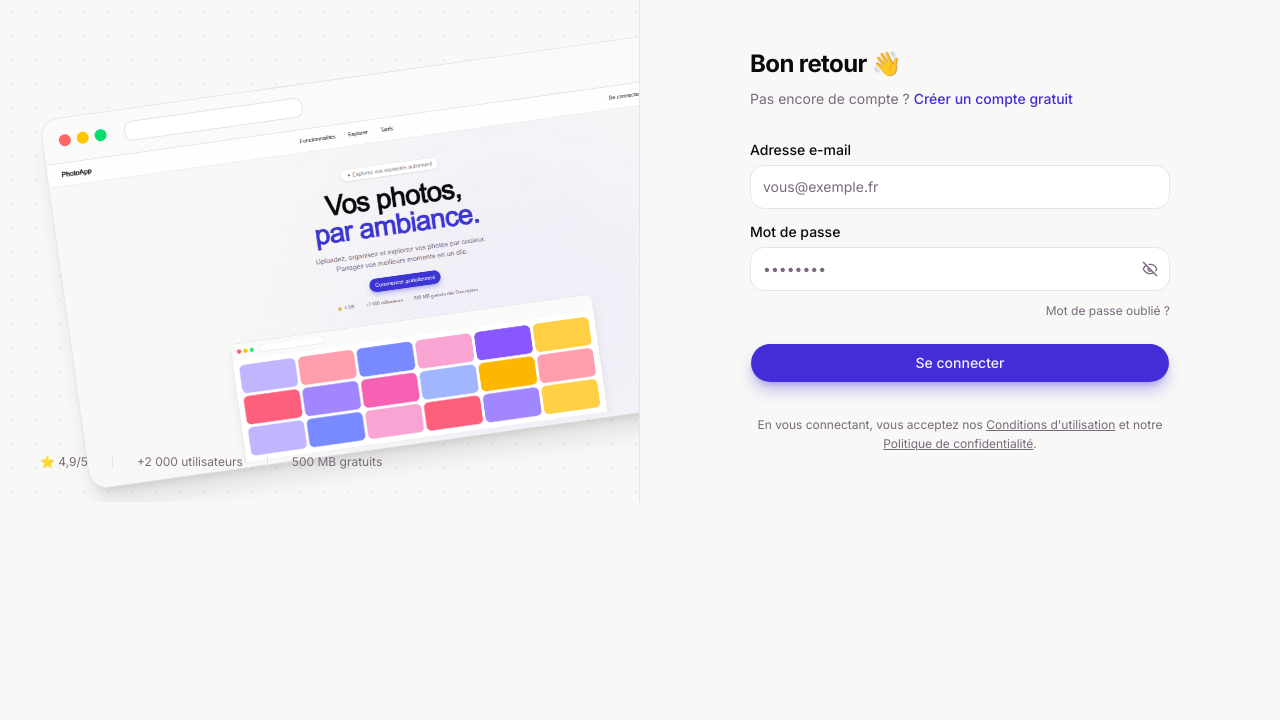
Test: LoginPage › affiche une erreur Zod pour un email invalide
Type "pas-un-email" into the field labelled "Adresse e-mail" at (960, 187), box 750,165 -> 1170,209
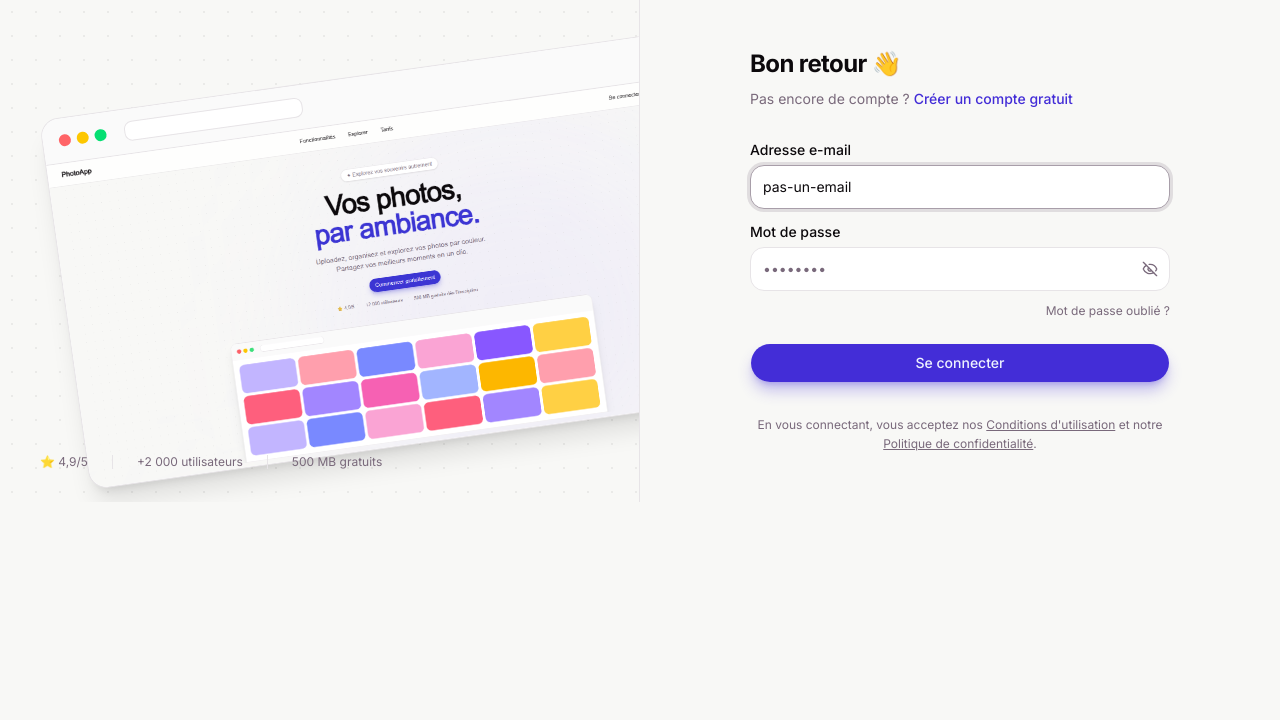
Type "Password123!" into the password field labelled "Mot de passe" at (960, 269), box 750,247 -> 1170,291
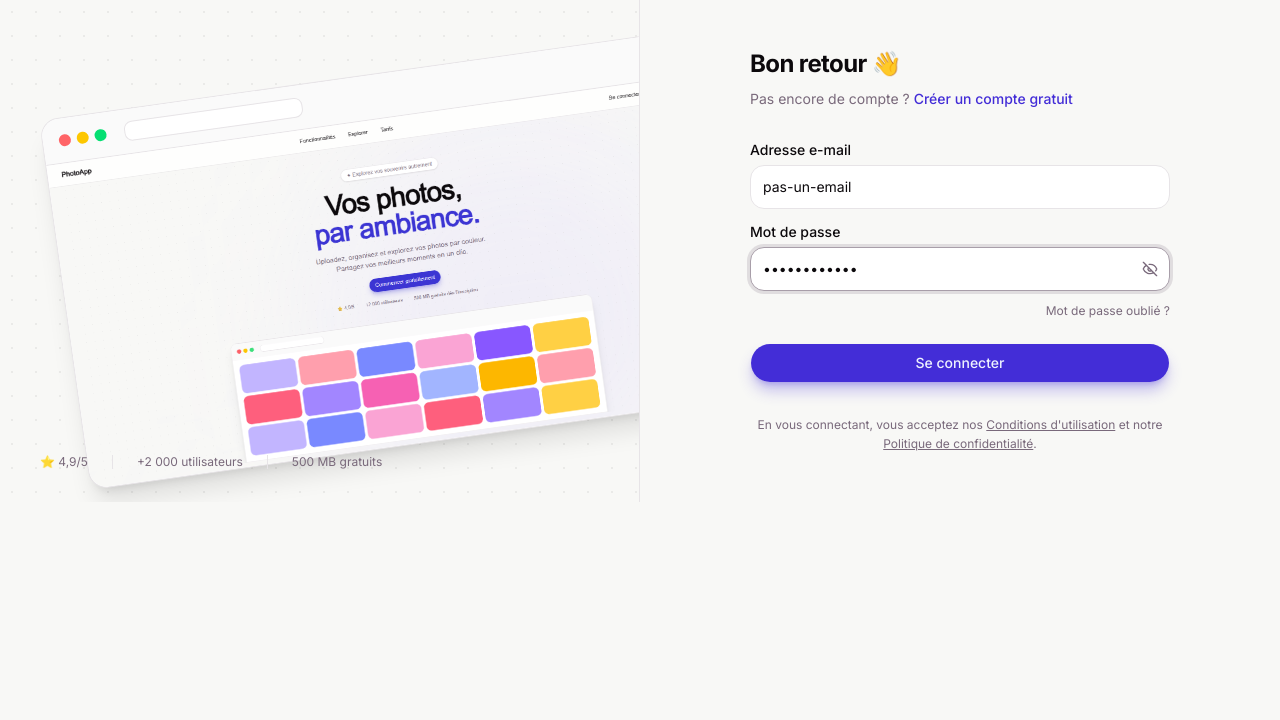
Click the button "Se connecter" at (960, 363), box 750,343 -> 1170,383
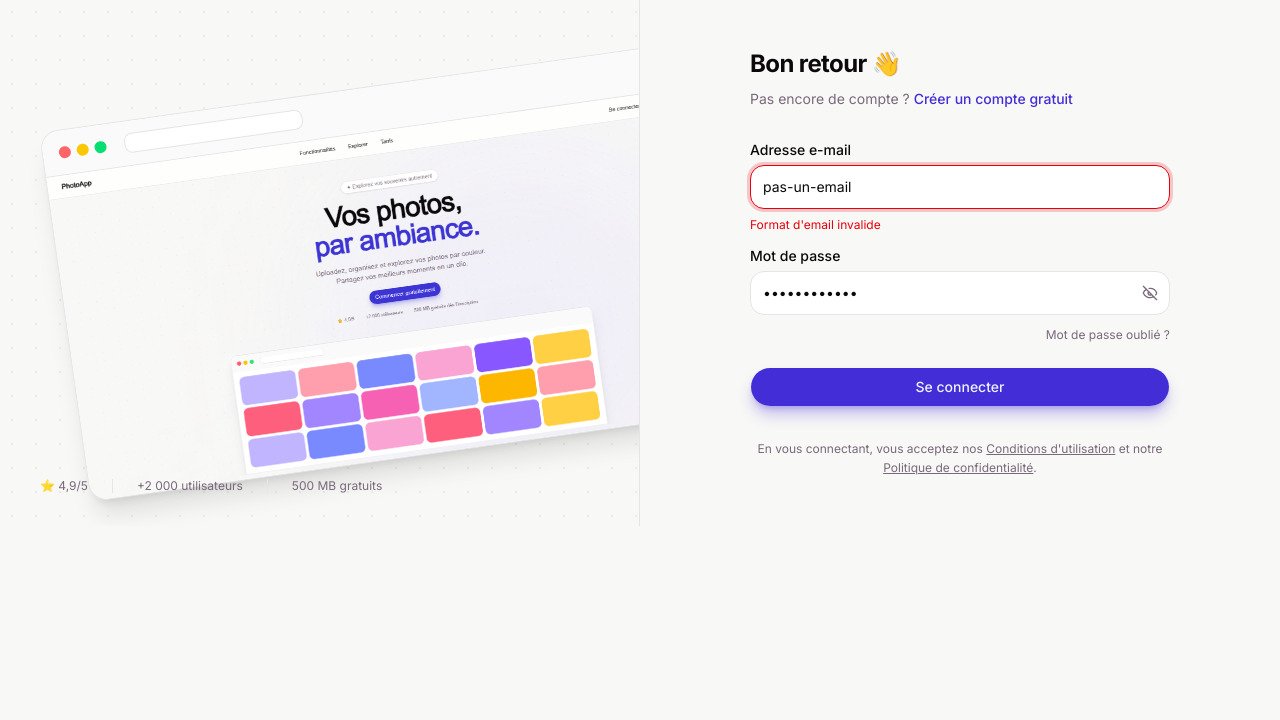
Check: the text "Format d'email invalide" is shown, box 750,217 -> 881,232
